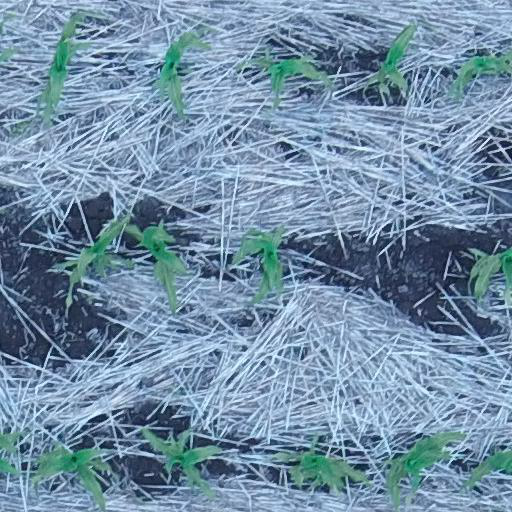planta: (56, 211, 136, 304), (119, 221, 189, 314), (270, 433, 372, 496), (387, 429, 465, 509), (41, 10, 92, 127), (158, 25, 217, 123), (141, 426, 221, 498), (236, 55, 336, 106), (232, 225, 284, 307), (363, 23, 416, 92)
